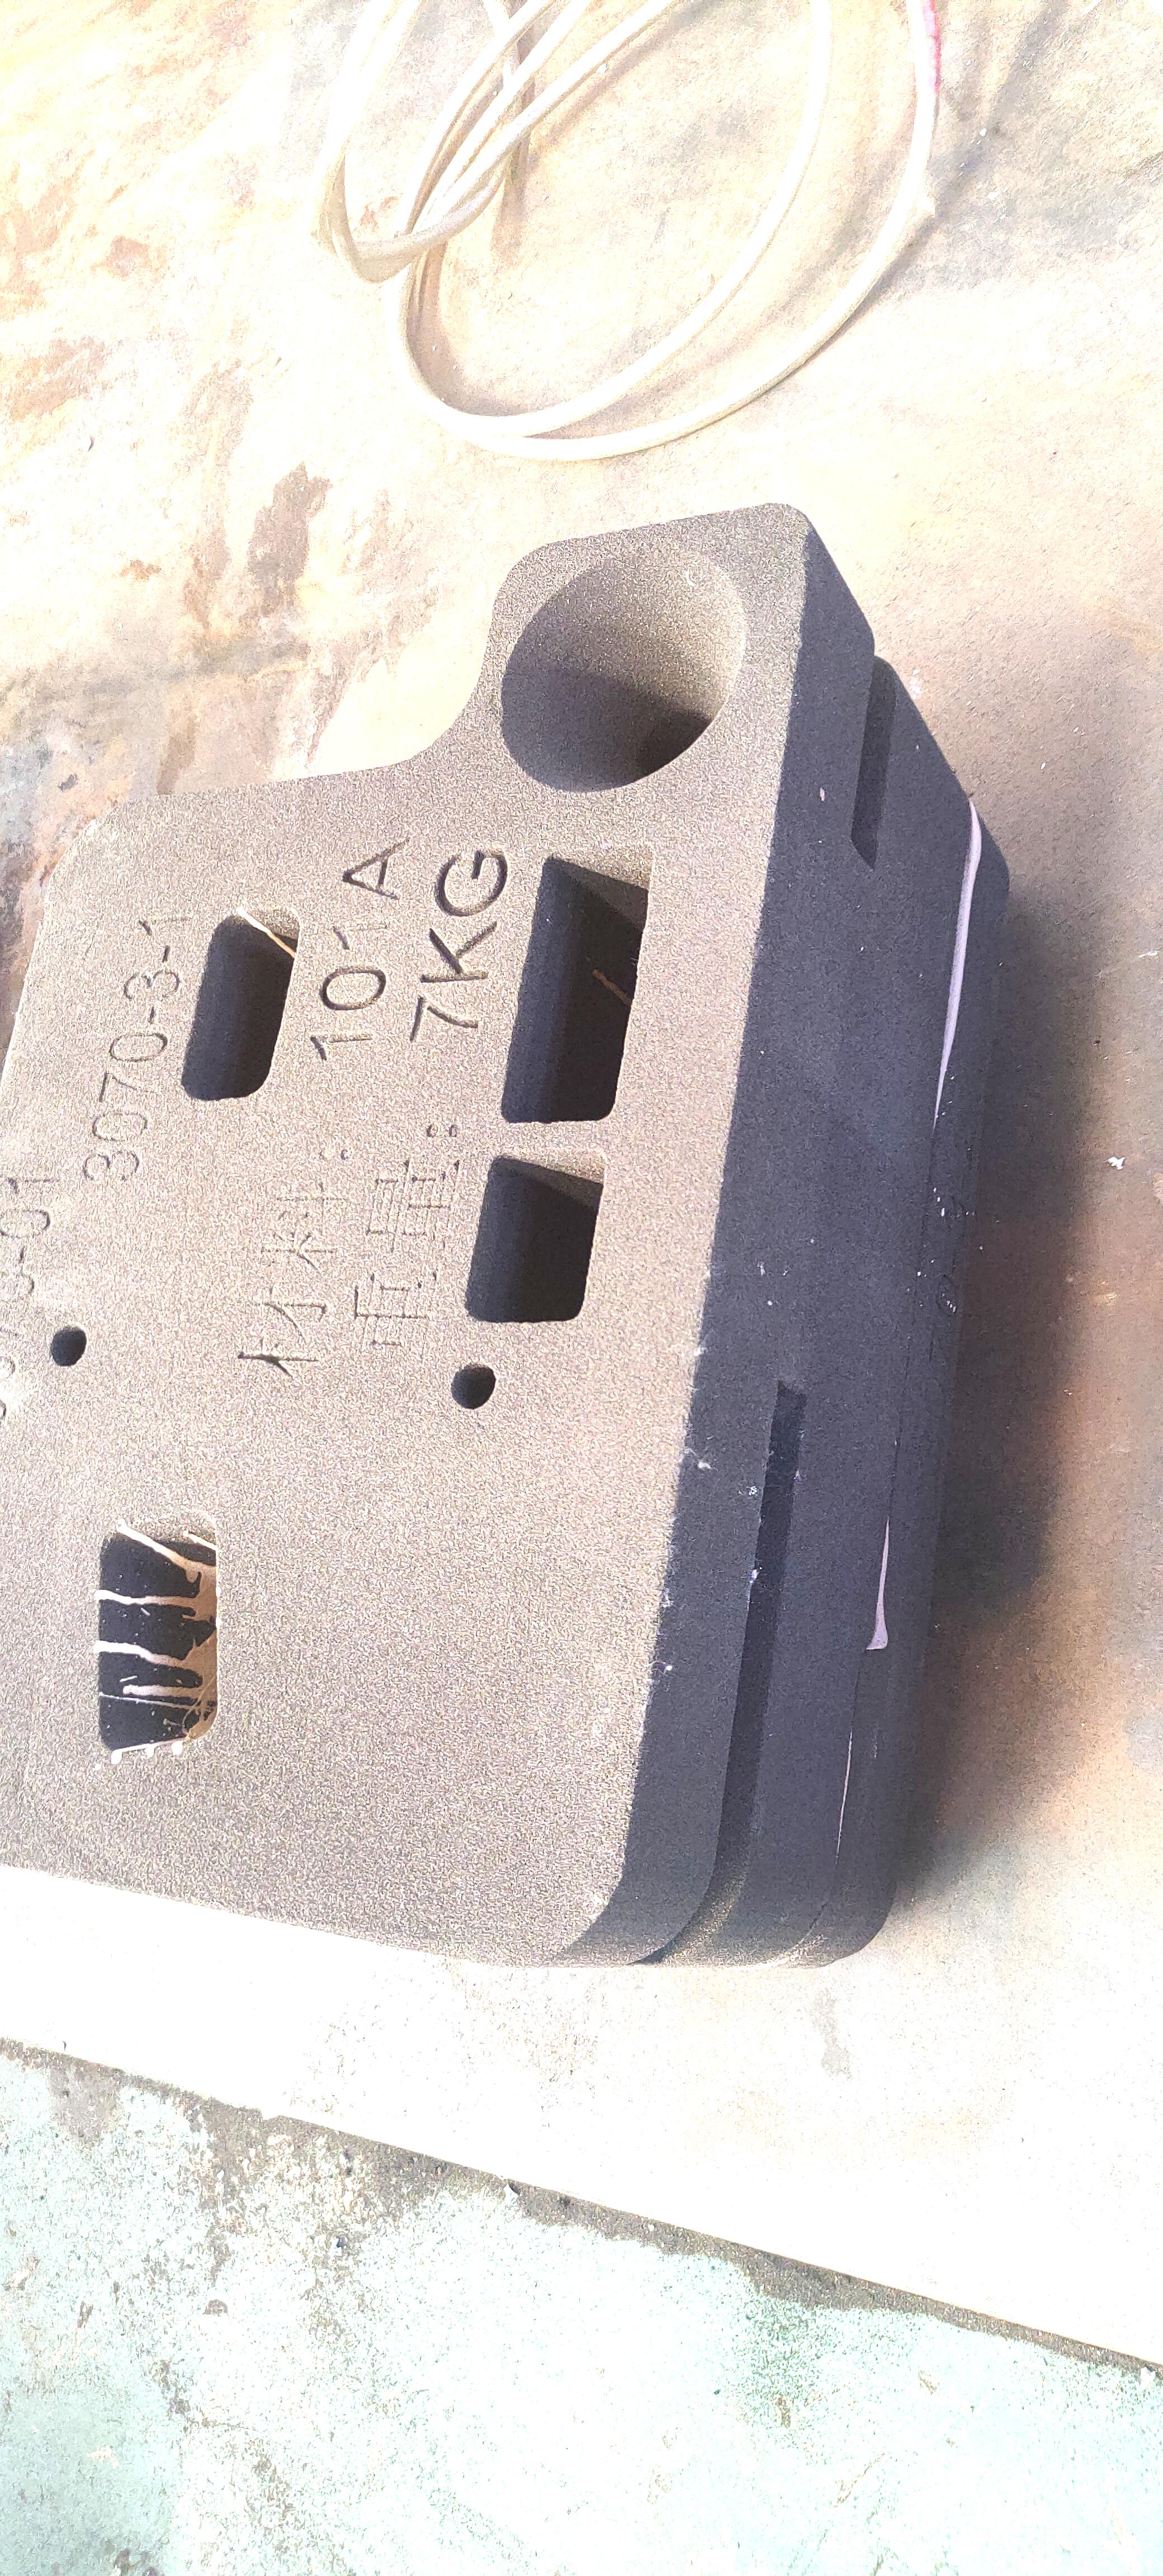pouring hole: (499, 545, 747, 794)
